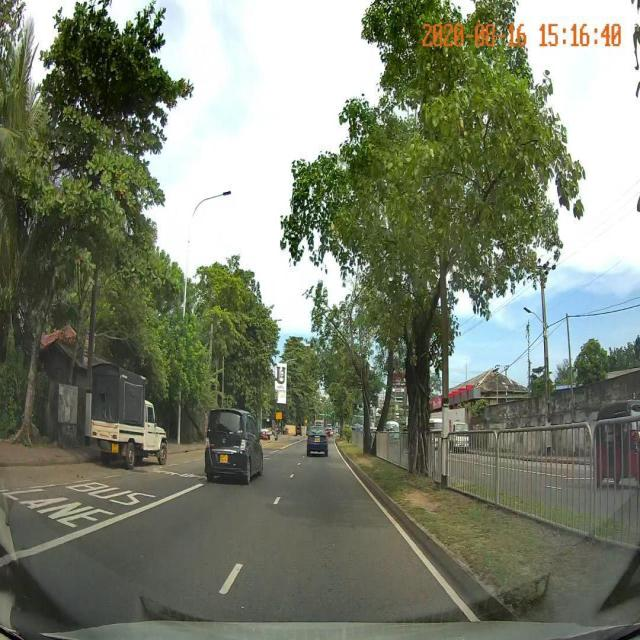BUS LANE: (0, 480, 163, 534)
Liniya 1: (349, 469, 482, 623), (3, 481, 208, 571), (215, 561, 244, 597), (272, 495, 282, 506)
